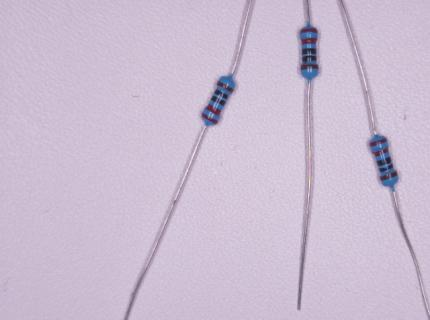Black band: (377, 156, 391, 166), (211, 97, 226, 106), (215, 90, 228, 100), (380, 164, 393, 172), (302, 56, 317, 61), (302, 49, 316, 54)
Brown band: (217, 81, 234, 93), (380, 171, 397, 181), (301, 65, 318, 70)
Red band: (201, 112, 219, 126), (206, 104, 222, 116), (370, 138, 388, 147), (373, 147, 389, 157), (301, 39, 317, 45), (300, 28, 318, 33)
